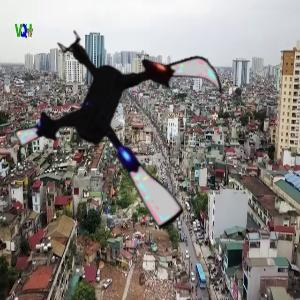drone: (13, 16, 238, 241)
